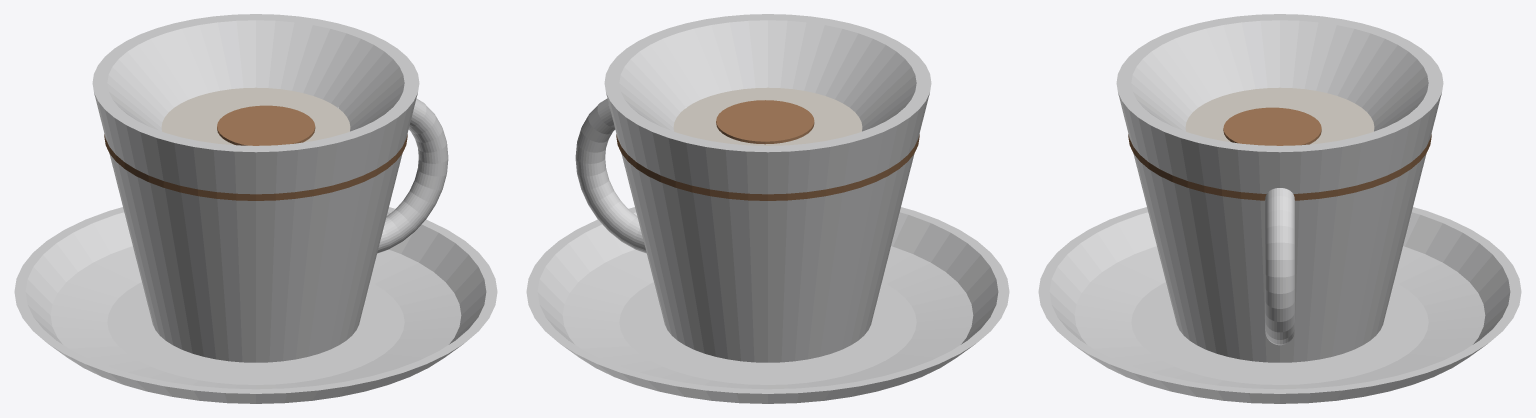
File: cappuccino.glb
3 views of the same model, side by side, from view 1: azimuth 30°, elevation 25°; view 2: azimuth 150°, elevation 25°; view 3: azimuth 270°, elevation 25° (orthographic).
Visible parts, largest first — view 1: geometry_1, geometry_0, geometry_4, geometry_2, geometry_5, geometry_3; view 2: geometry_1, geometry_0, geometry_4, geometry_2, geometry_5, geometry_3; view 3: geometry_1, geometry_0, geometry_4, geometry_2, geometry_5, geometry_3.
Part boxes in pixels (x1,y1,x2,y2): geometry_1: (92,14,419,362); geometry_0: (14,207,497,403); geometry_4: (161,87,350,145); geometry_2: (336,98,448,253); geometry_5: (217,105,315,145); geometry_3: (104,134,407,200); geometry_1: (604,14,931,362); geometry_0: (526,207,1009,403); geometry_4: (673,87,862,145); geometry_2: (575,98,687,253); geometry_5: (716,100,814,144); geometry_3: (616,134,919,200); geometry_1: (1116,14,1443,362); geometry_0: (1038,207,1521,403); geometry_4: (1185,87,1374,144); geometry_2: (1265,188,1294,345); geometry_5: (1223,107,1321,145); geometry_3: (1128,134,1431,200).
Bounding box in the file's own units: 0.13 × 0.074 × 0.13.
